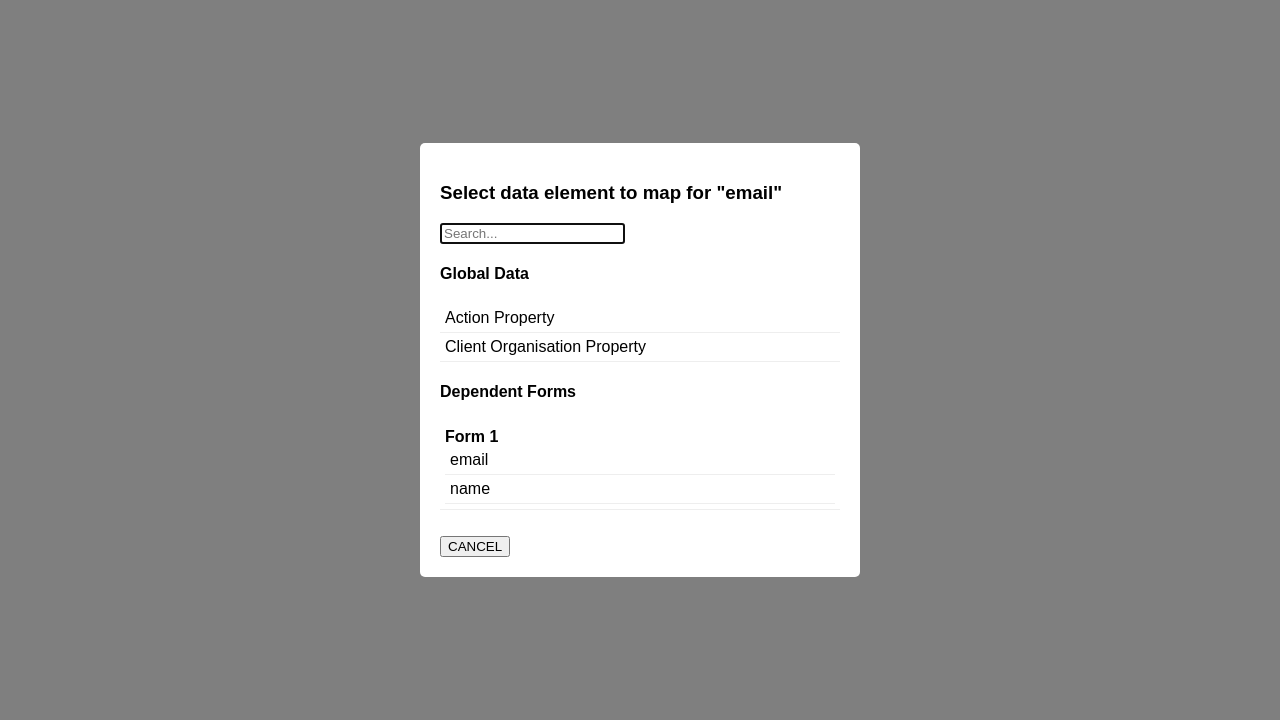
Test: MappingModal Search Functionality › filters mapping options based on search term
Type "action" into the field with placeholder "Search..." at {"x": 532, "y": 233}, box [440, 223, 625, 244]
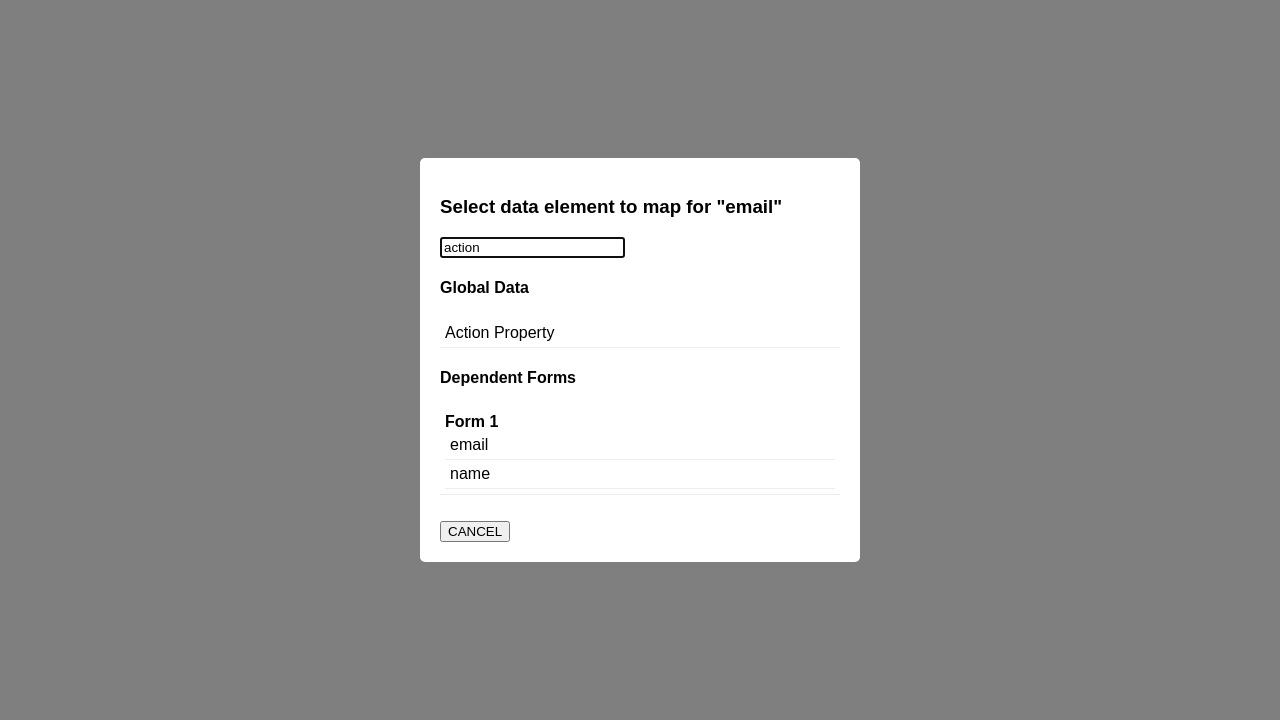
Expected: the button "Action Property" is shown, [440, 319, 840, 348]
Now the button "Client Organisation Property" is gone
